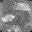people: (2, 14, 15, 23)
